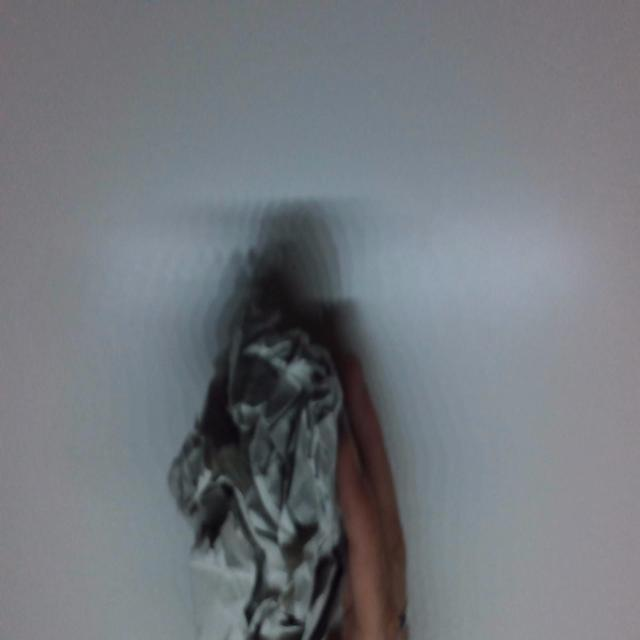Paper: (165, 284, 343, 640)
